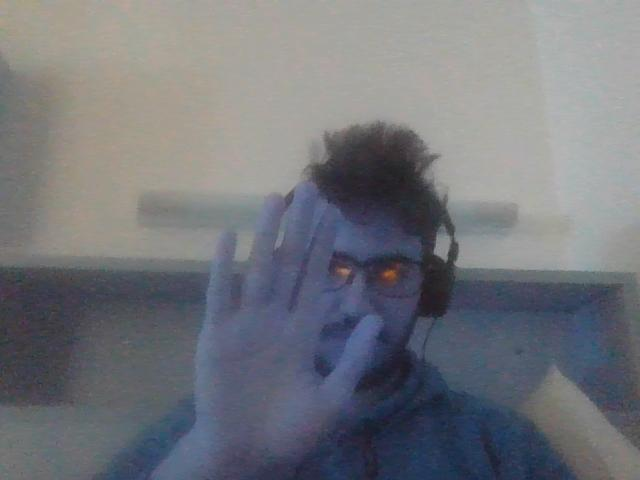Hello: (212, 205, 353, 458)
